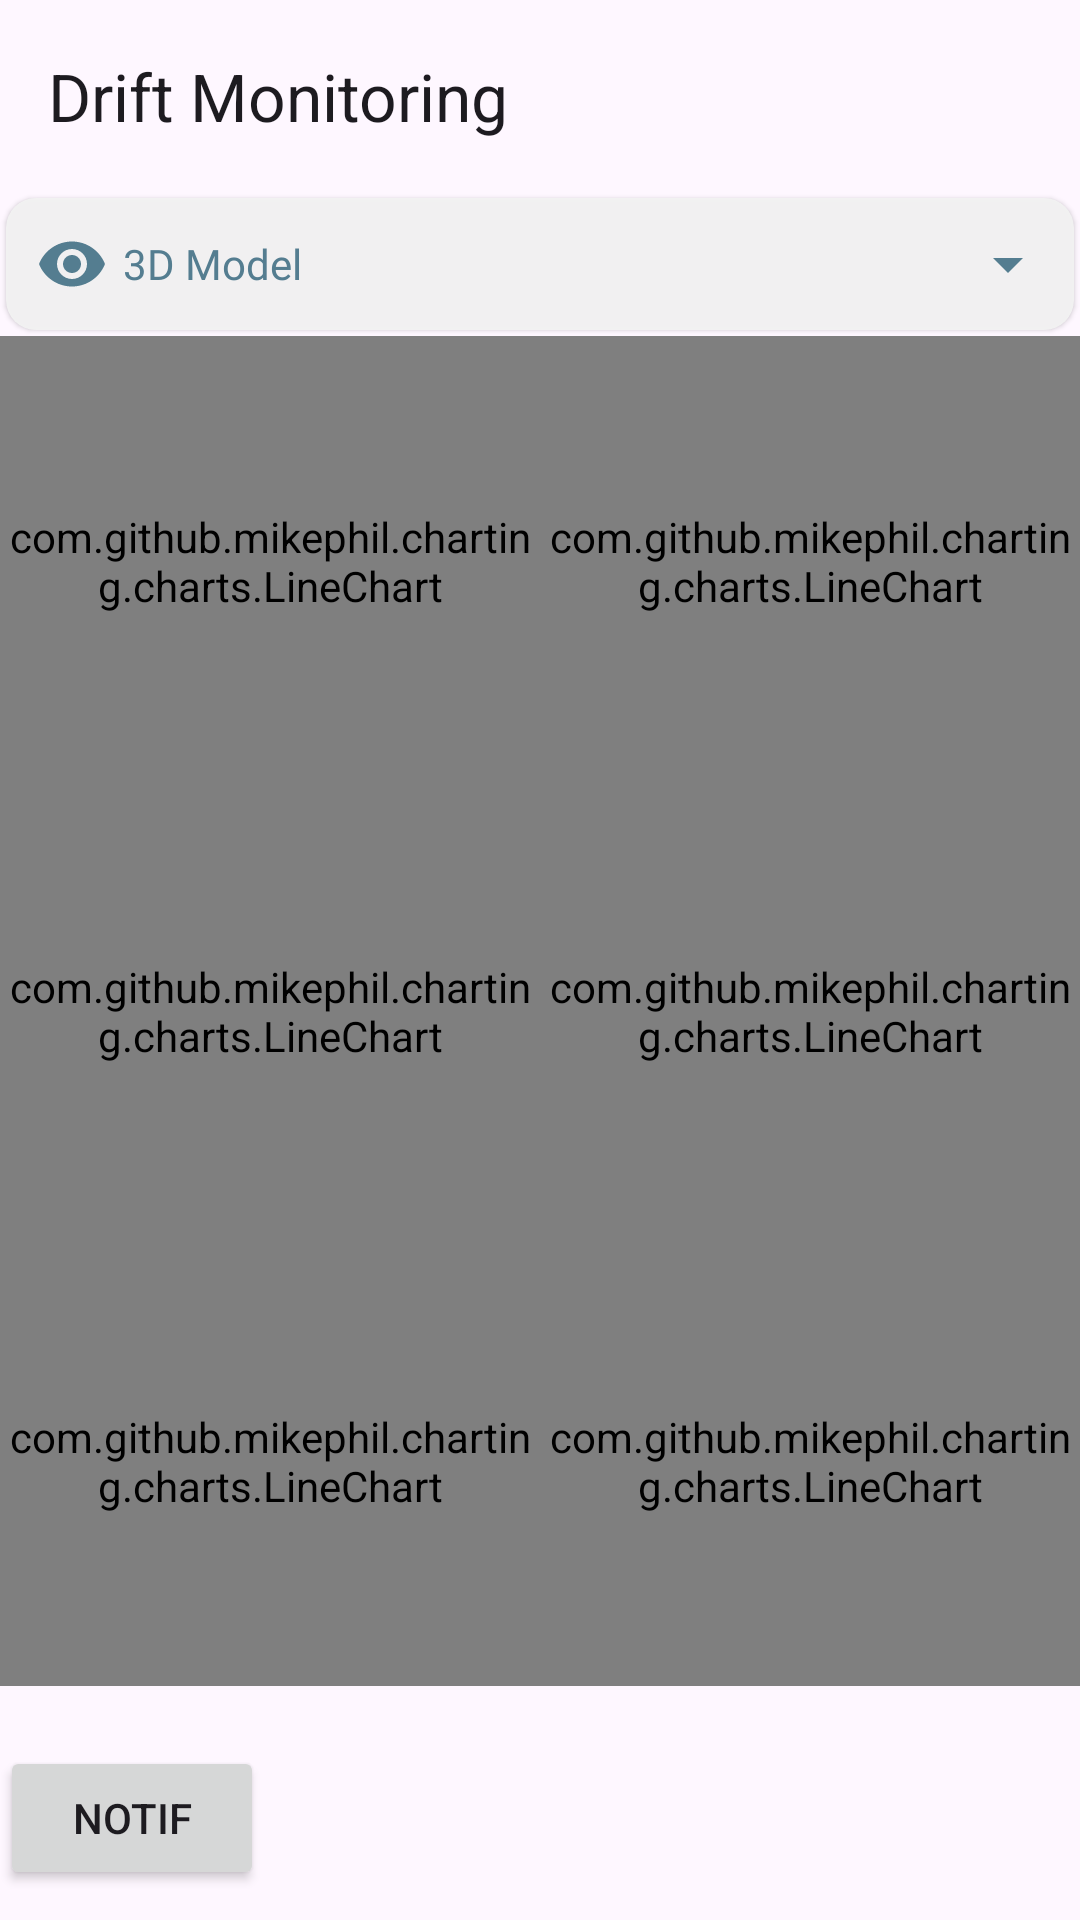

Icon bounding boxes for this 1080*1920 phone screenshot, format (x1, y1, x2, y2):
dropdown: (993, 258, 1023, 273)
